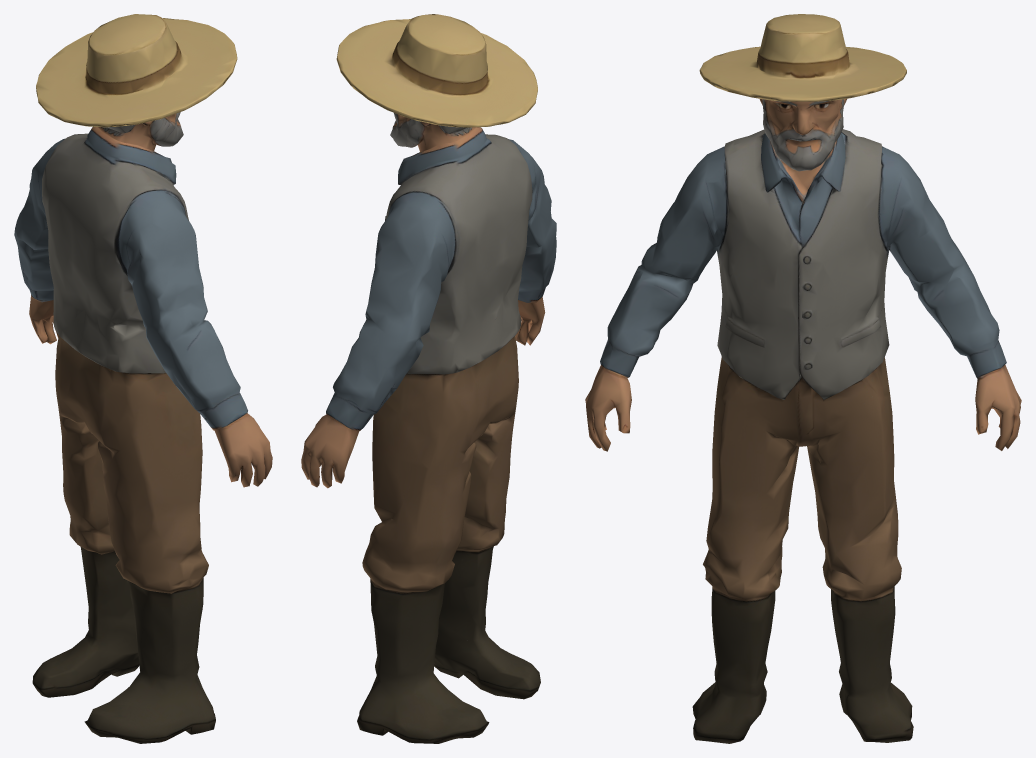
The model's file is d944a91f-e8ae-4792-8410-da65d039ba12_model_url.glb.
3 views of the same model, side by side, from view 1: azimuth 30°, elevation 25°; view 2: azimuth 150°, elevation 25°; view 3: azimuth 270°, elevation 25° (orthographic). The views are drawn at different scales.
Visible parts, largest first — view 1: tripo_node_d944a91f-e8ae-4792-8410-da65d039ba12; view 2: tripo_node_d944a91f-e8ae-4792-8410-da65d039ba12; view 3: tripo_node_d944a91f-e8ae-4792-8410-da65d039ba12.
Boxes of the visible parts, bbox=[...] form: tripo_node_d944a91f-e8ae-4792-8410-da65d039ba12: bbox=[14, 14, 272, 743]; tripo_node_d944a91f-e8ae-4792-8410-da65d039ba12: bbox=[301, 14, 556, 743]; tripo_node_d944a91f-e8ae-4792-8410-da65d039ba12: bbox=[585, 14, 1021, 743].
Bounding box in the file's own units: 0.2754 × 1 × 0.5595.
1 material, 1 textured.
